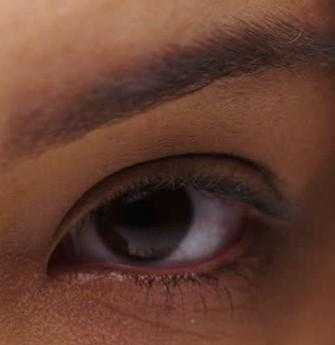open: (25, 146, 316, 336)
